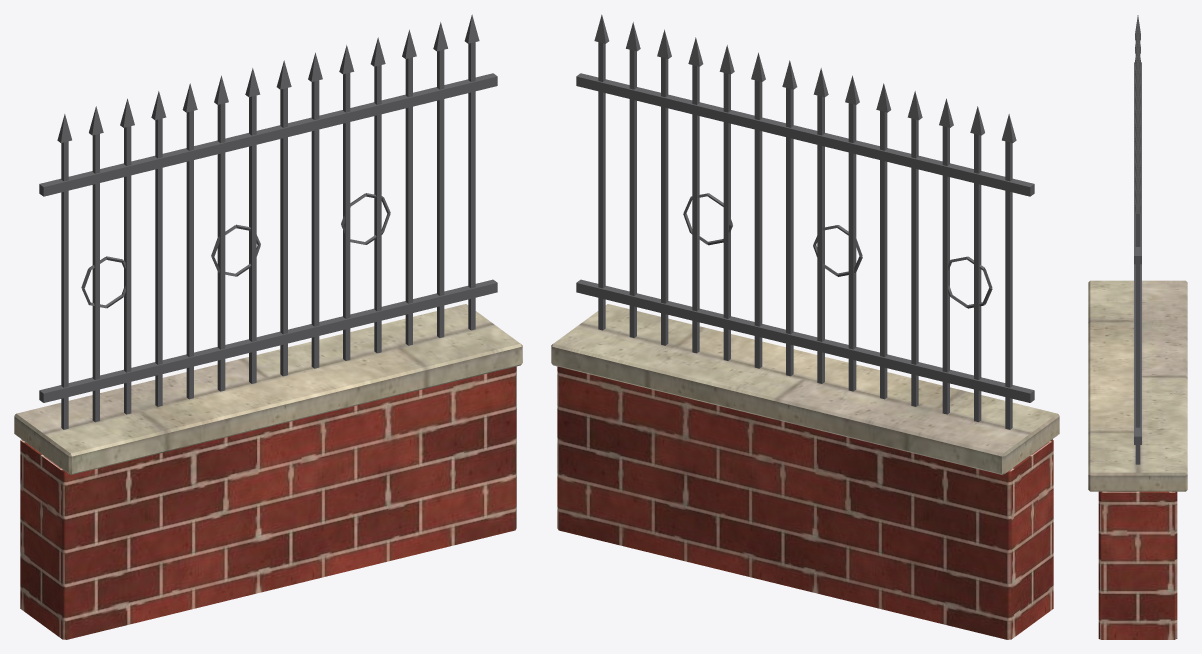
Rendered from fence_175.glb.
3 views of the same model, side by side, from view 1: azimuth 30°, elevation 25°; view 2: azimuth 150°, elevation 25°; view 3: azimuth 270°, elevation 25° (orthographic). The views are drawn at different scales.
Visible parts, largest first — view 1: fence_175_brick, fence_175_iron, fence_175_stone_t; view 2: fence_175_brick, fence_175_iron, fence_175_stone_t; view 3: fence_175_stone_t, fence_175_brick, fence_175_iron.
Part boxes in pixels (x1,y1,x2,y2): fence_175_brick: (20,366,516,639); fence_175_iron: (39,14,497,429); fence_175_stone_t: (14,304,522,474); fence_175_brick: (557,366,1053,639); fence_175_iron: (576,14,1034,429); fence_175_stone_t: (551,304,1059,474); fence_175_stone_t: (1088,280,1187,491); fence_175_brick: (1098,491,1177,639); fence_175_iron: (1134,15,1141,464).
Size of the model in its own units: 1.75 by 1.86 by 0.38.
Materials: 3 (2 with a texture image).
